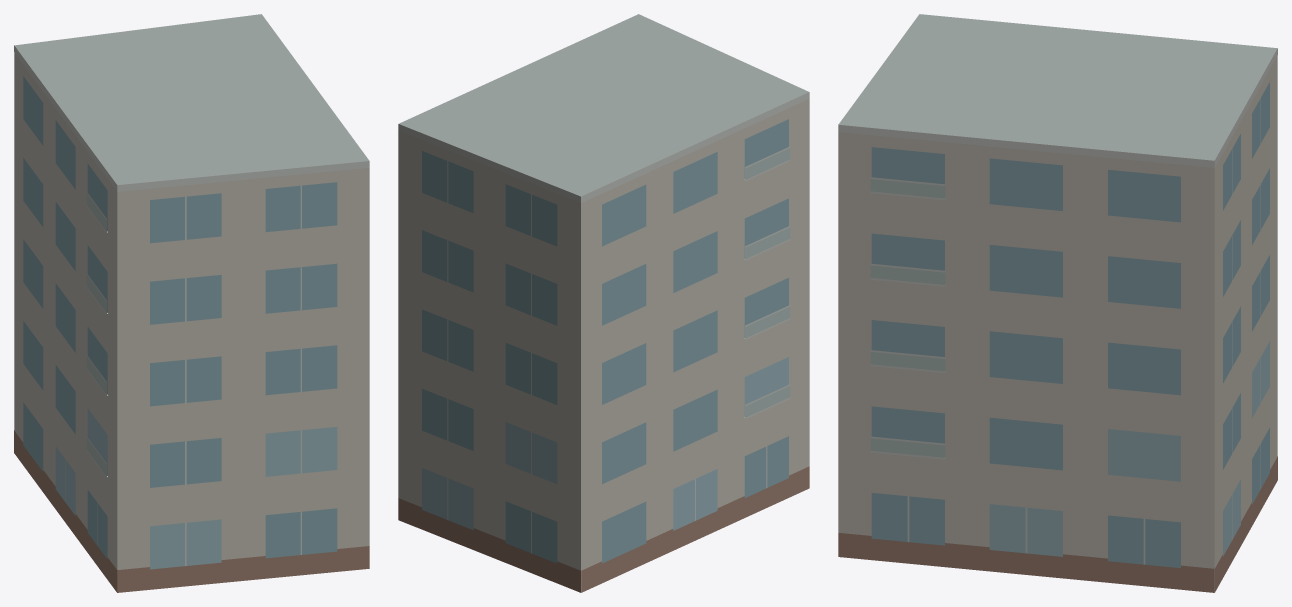
Rendered from survey-upis-32747186.glb.
3 views of the same model, side by side, from view 1: azimuth 30°, elevation 25°; view 2: azimuth 150°, elevation 25°; view 3: azimuth 270°, elevation 25° (orthographic). The views are drawn at different scales.
Parts seen in each view (by area): view 1: survey-upis-32747186.tmp; view 2: survey-upis-32747186.tmp; view 3: survey-upis-32747186.tmp.
Boxes of the visible parts, box(x1,y1,x2,y2) form: survey-upis-32747186.tmp: box(14, 14, 369, 592); survey-upis-32747186.tmp: box(398, 14, 809, 592); survey-upis-32747186.tmp: box(838, 14, 1277, 592).
Bounding box in the file's own units: 10.64 × 14.6 × 13.47.
